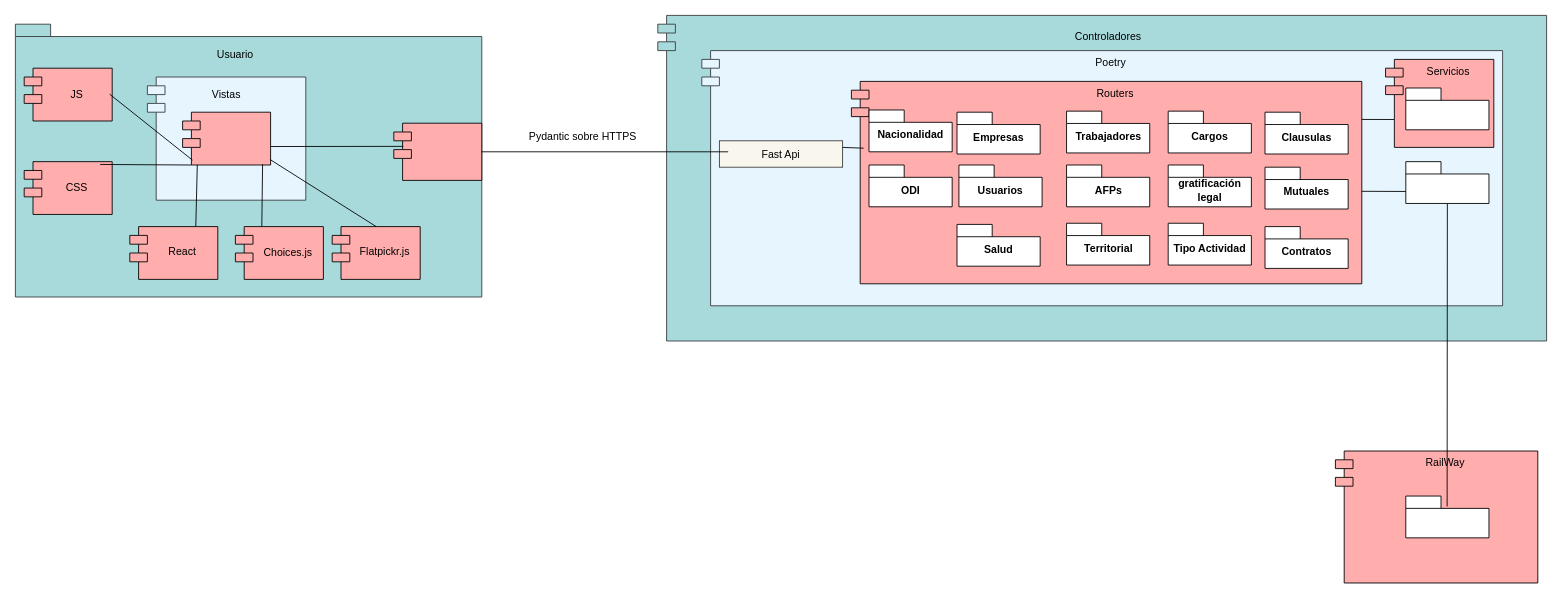
Image size: 1562x598. Some labels were removed from this diagram. The centre of each missing label's shape, as x and y in pixels:
HTML: pixel 226 138
Postgresql: pixel 1447 516
Sendgrid: pixel 1447 108
Solicitudad https post: pixel 437 151
SQLalchemy: pixel 1447 182
